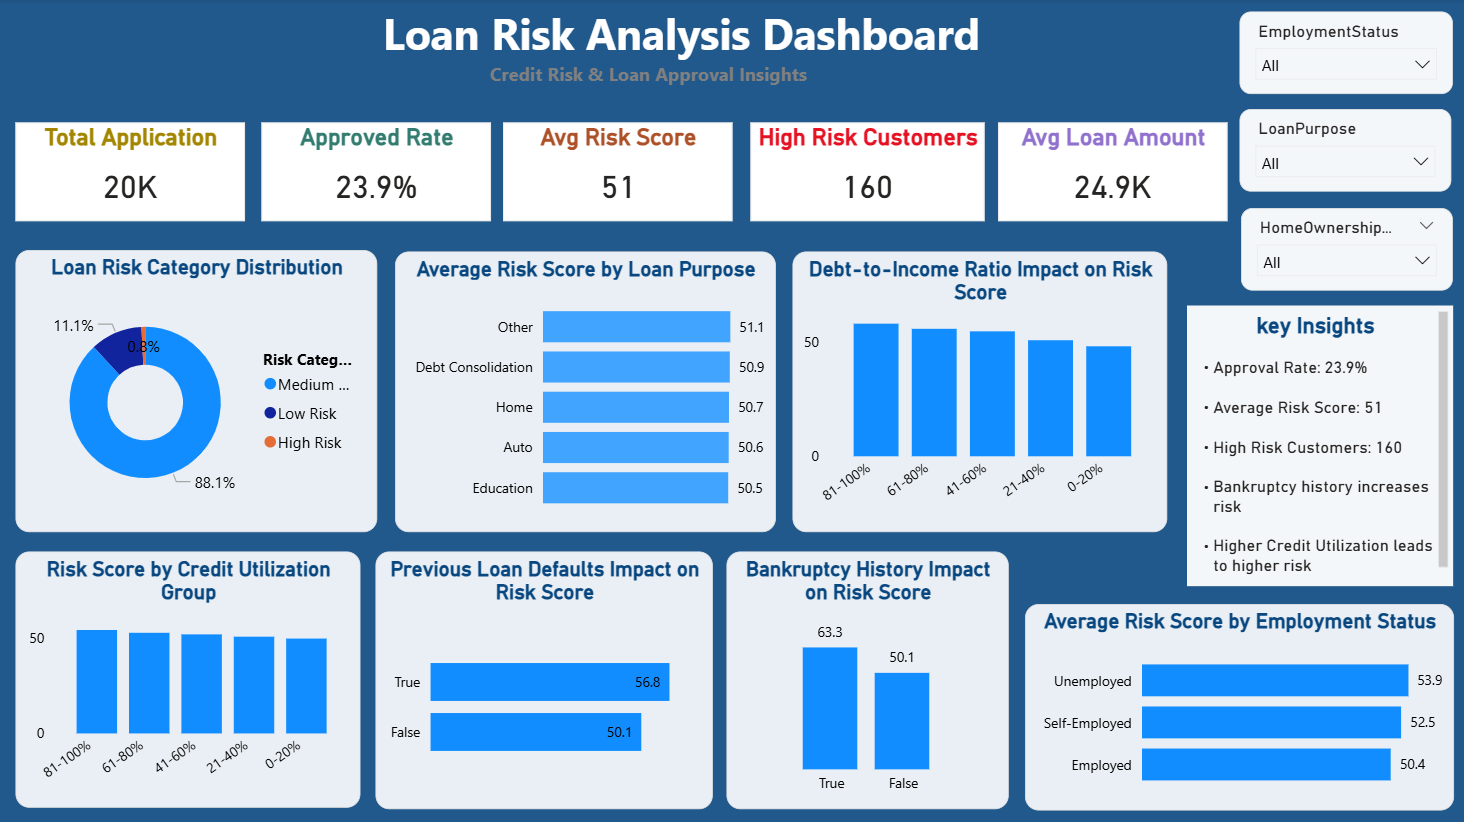

What the dashboard file says about the page in this screenshot:
{"tool":"powerbi","page":{"name":"Page 1","canvas":[1280,720],"ordinal":0},"visuals":[{"type":"card","title":"Total Application","fields":{"Values":["CountNonNull(loan_data.LoanApproved)"]},"box":[14.4,108.5,200.1,86.3],"z":0},{"type":"card","title":"Approved Rate","fields":{"Values":["loan_data.Approval Rate"]},"box":[228.8,108.5,200.1,86.3],"z":1000},{"type":"card","title":"Avg Risk Score","fields":{"Values":["Avg(loan_data.RiskScore)"]},"box":[439.3,108.5,200.1,86.3],"z":2000},{"type":"card","title":"High Risk Customers","fields":{"Values":["loan_data.High Risk Customers"]},"box":[655.1,108.5,204,86.3],"z":3000},{"type":"card","title":"Avg Loan Amount","fields":{"Values":["Avg(loan_data.LoanAmount)"]},"box":[870.8,108.5,200.1,86.3],"z":4000},{"type":"donutChart","title":"Loan Risk Category Distribution","fields":{"Category":["loan_data.Risk Category"],"Y":["CountNonNull(loan_data.LoanApproved)"]},"box":[14.4,219.7,315.1,245.8],"z":5000},{"type":"clusteredBarChart","title":"Average Risk Score by Loan Purpose","fields":{"Category":["loan_data.LoanPurpose"],"Y":["Avg(loan_data.RiskScore)"]},"box":[345.2,221,332.1,244.5],"z":6000},{"type":"clusteredColumnChart","title":"Debt-to-Income Ratio Impact on Risk Score","fields":{"Y":["Avg(loan_data.RiskScore)"],"Category":["loan_data.Debt To Income Group"]},"box":[691.7,221,326.9,244.5],"z":7000},{"type":"clusteredColumnChart","title":"Risk Score by Credit Utilization Group","fields":{"Category":["loan_data.Credit Utilization Group"],"Y":["Avg(loan_data.RiskScore)"]},"box":[14.4,482.5,300.7,223.6],"z":8000},{"type":"clusteredBarChart","title":"Previous Loan Defaults Impact on Risk Score","fields":{"Category":["loan_data.PreviousLoanDefaults"],"Y":["Avg(loan_data.RiskScore)"]},"box":[328.2,482.5,294.2,224.9],"z":9000},{"type":"clusteredColumnChart","title":"Bankruptcy History Impact on Risk Score","fields":{"Category":["loan_data.BankruptcyHistory"],"Y":["Avg(loan_data.RiskScore)"]},"box":[634.2,482.5,245.8,224.9],"z":10000},{"type":"slicer","fields":{"Values":["loan_data.EmploymentStatus"]},"box":[1081.3,11.8,185.7,72],"z":11000},{"type":"slicer","fields":{"Values":["loan_data.LoanPurpose"]},"box":[1081.3,96.8,184.4,71.9],"z":12000},{"type":"slicer","fields":{"Values":["loan_data.HomeOwnershipStatus"]},"box":[1082.6,183.1,184.4,71.9],"z":13000},{"type":"clusteredBarChart","title":"Average Risk Score by Employment Status","fields":{"Category":["loan_data.EmploymentStatus"],"Y":["Avg(loan_data.RiskScore)"]},"box":[893.8,527.7,373.8,180],"z":14000},{"type":"textbox","box":[1035.4,267.7,232.3,244.6],"z":15000},{"type":"textbox","box":[0,0,1053.9,108.5],"z":16000}]}

Visuals, with their boxes in screenshot pixels (x1, y1, x2, y2), scaled from the page's 1280x720 canvas onto the 1464x822 screenshot:
"Total Application" card: select_region(16, 124, 245, 222)
"Approved Rate" card: select_region(262, 124, 491, 222)
"Avg Risk Score" card: select_region(502, 124, 731, 222)
"High Risk Customers" card: select_region(749, 124, 983, 222)
"Avg Loan Amount" card: select_region(996, 124, 1225, 222)
"Loan Risk Category Distribution" donutChart: select_region(16, 251, 377, 531)
"Average Risk Score by Loan Purpose" clusteredBarChart: select_region(395, 252, 775, 531)
"Debt-to-Income Ratio Impact on Risk Score" clusteredColumnChart: select_region(791, 252, 1165, 531)
"Risk Score by Credit Utilization Group" clusteredColumnChart: select_region(16, 551, 360, 806)
"Previous Loan Defaults Impact on Risk Score" clusteredBarChart: select_region(375, 551, 712, 808)
"Bankruptcy History Impact on Risk Score" clusteredColumnChart: select_region(725, 551, 1006, 808)
slicer - loan_data.EmploymentStatus: select_region(1237, 13, 1449, 96)
slicer - loan_data.LoanPurpose: select_region(1237, 111, 1448, 193)
slicer - loan_data.HomeOwnershipStatus: select_region(1238, 209, 1449, 291)
"Average Risk Score by Employment Status" clusteredBarChart: select_region(1022, 602, 1450, 808)
textbox: select_region(1184, 306, 1450, 585)
textbox: select_region(0, 0, 1205, 124)
